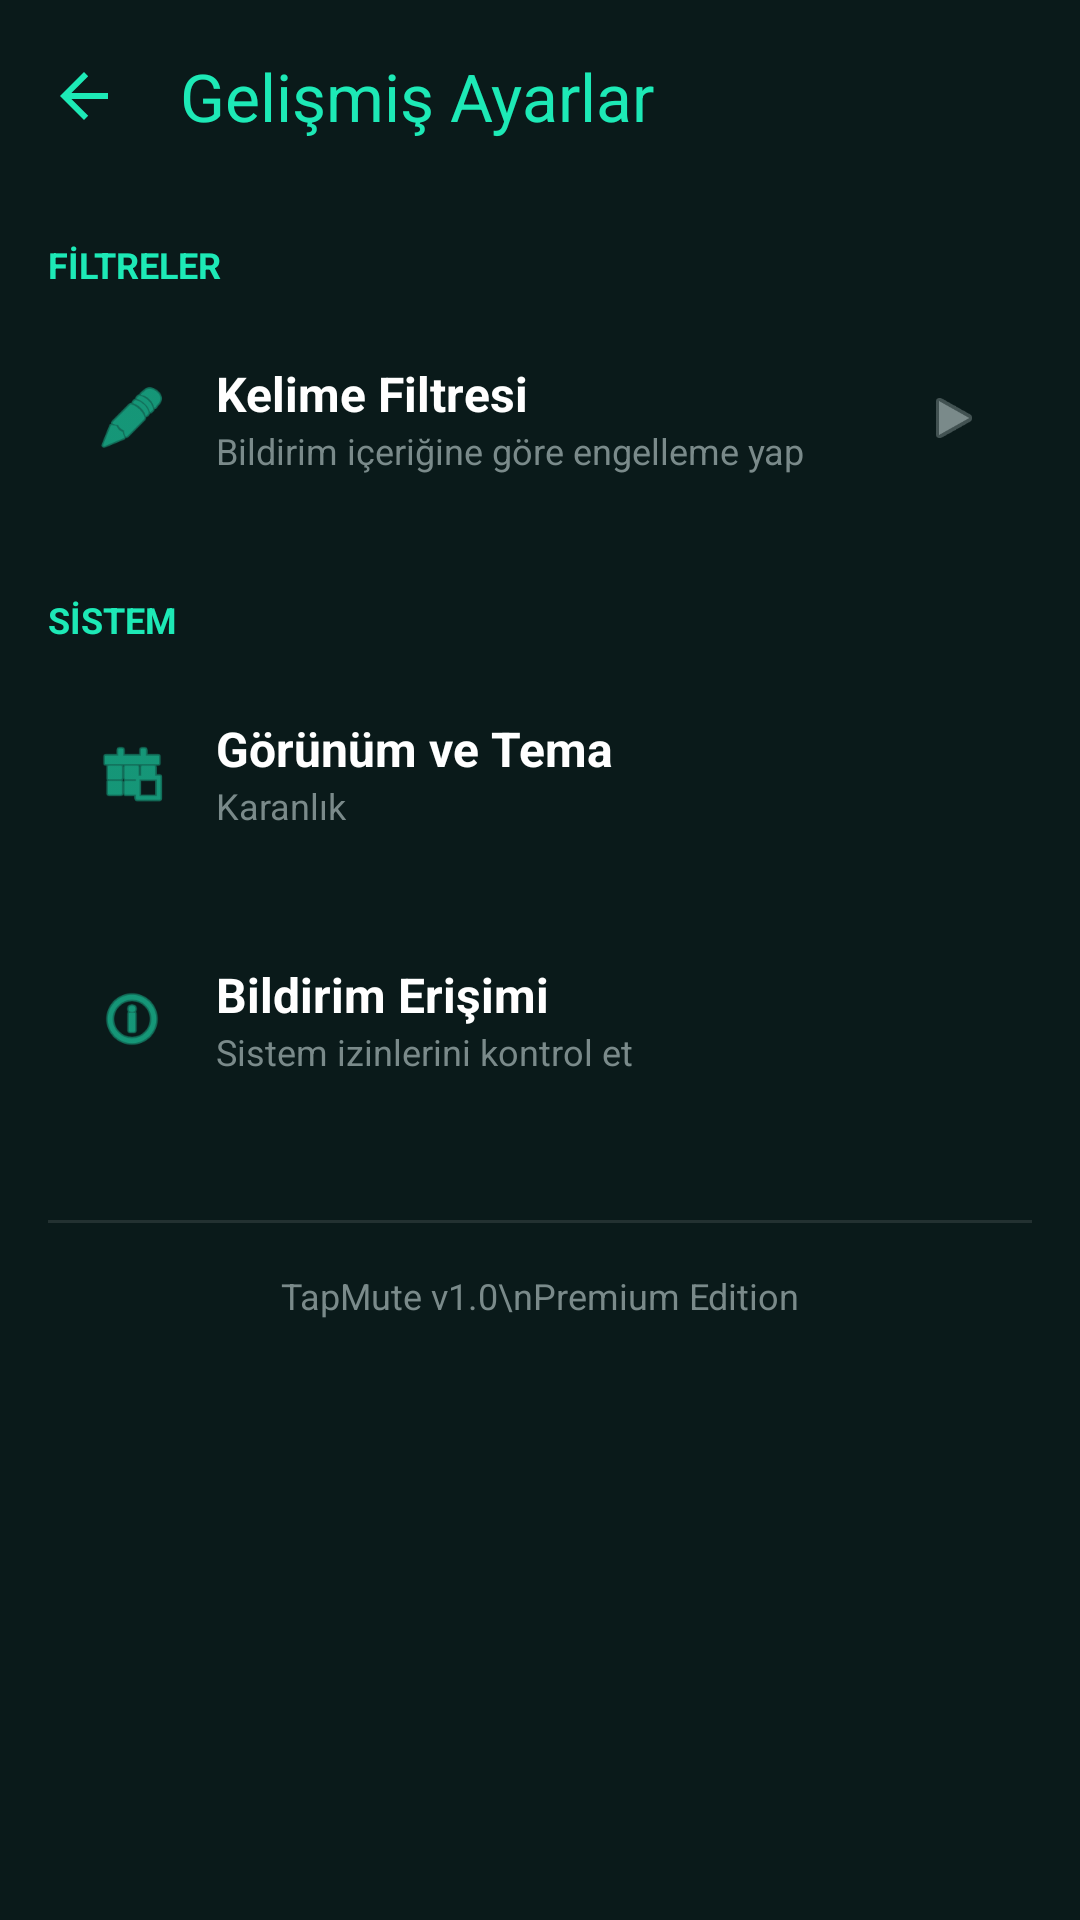

Icon click points for this 1080px×1920px phone screenshot, format [x,y]:
edit: [131,417]
info details: [132,1019]
play: [954,418]
today: [132,774]
